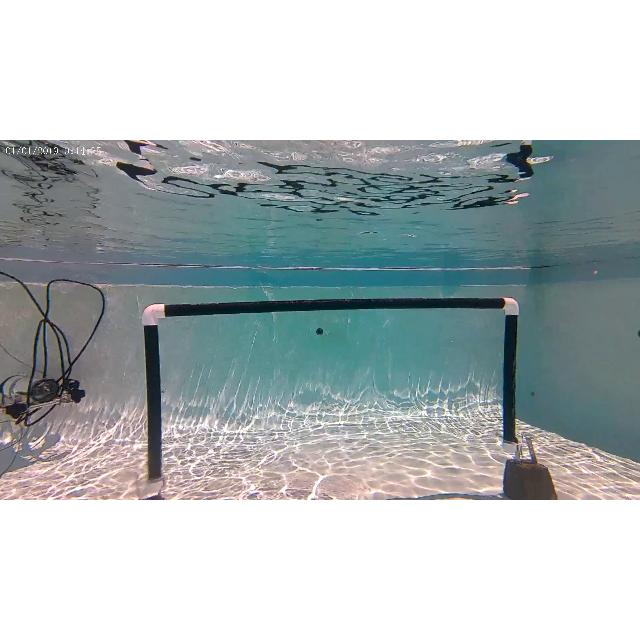prequal gate: (142, 298, 520, 482)
prequal gate leg l: (140, 302, 172, 500)
prequal gate leg r: (495, 296, 555, 498)
